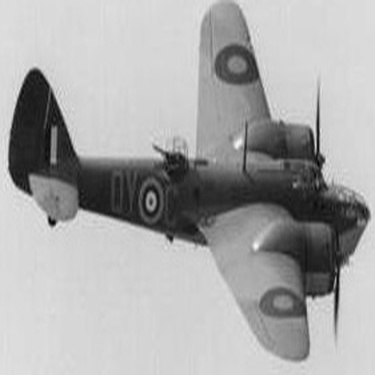airplane: (1, 2, 367, 373)
